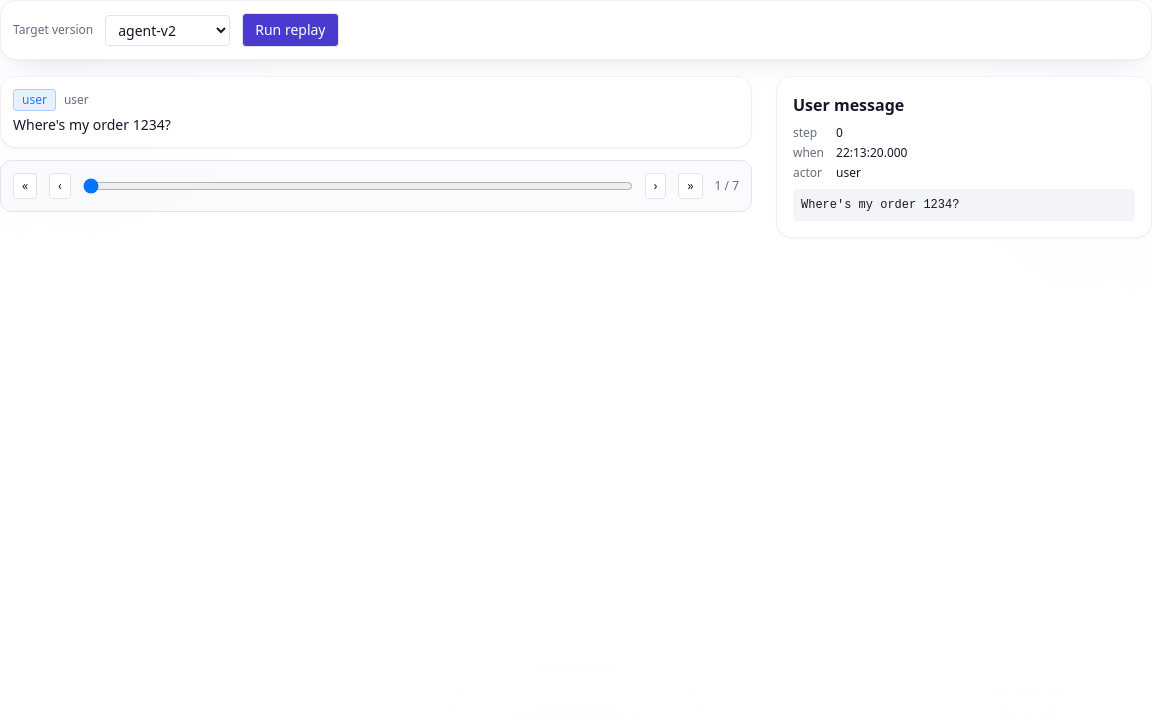
Scenario: ReplayPlayer › runs a target-version replay and renders the side-by-side diff
The width and height of the screenshot is (1152, 720).
Select "agent-canary" in the dropdown with test id "replay-target-version": (168, 30) [105,14,230,46]
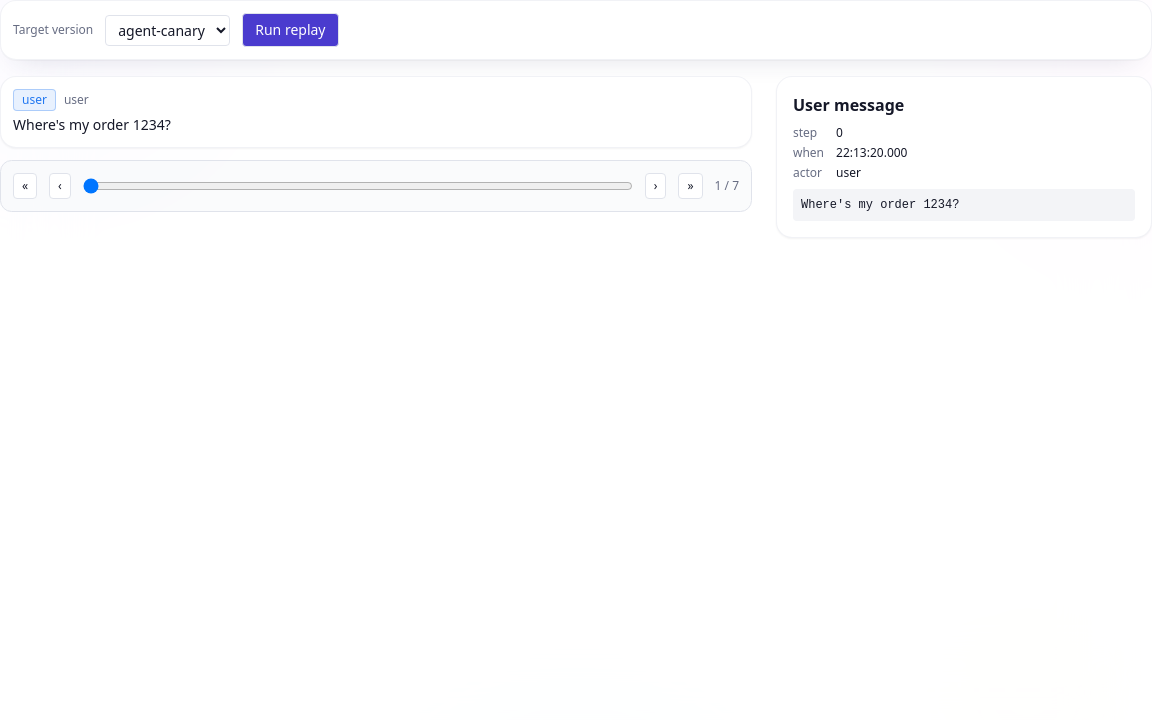
Click the button with test id "replay-run": (290, 30) [242,13,338,47]
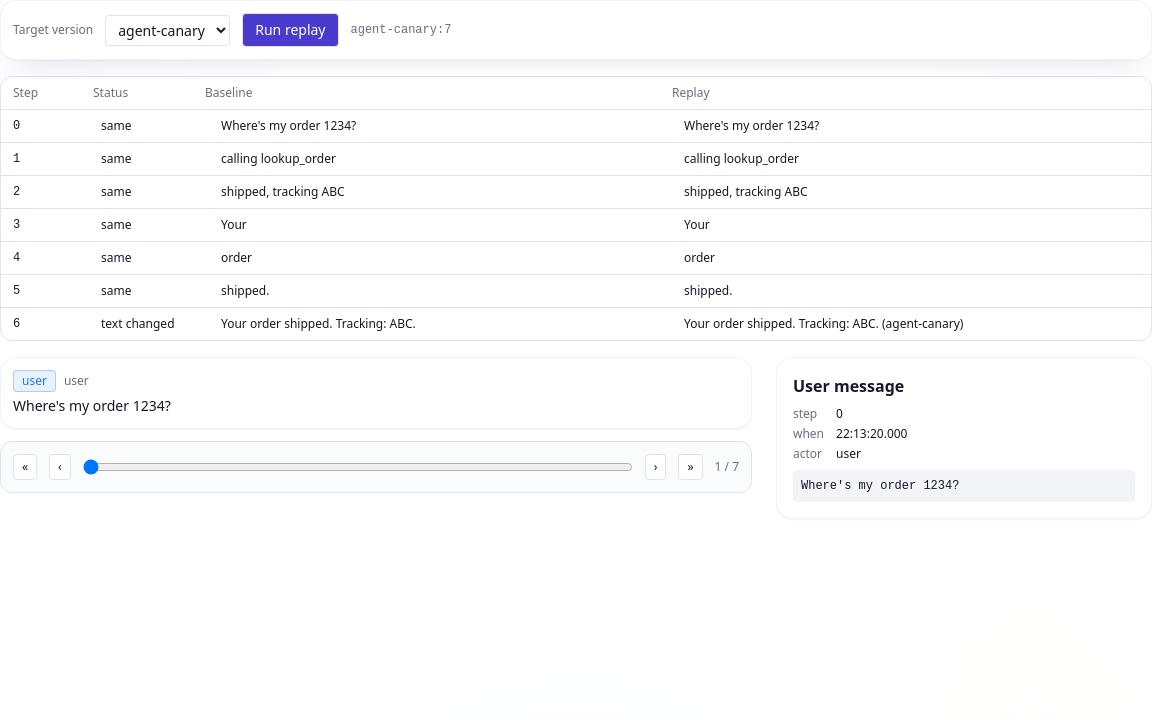
Check: the element with test id "replay-diff-row" shows "agent-canary", box [684,315,963,332]
